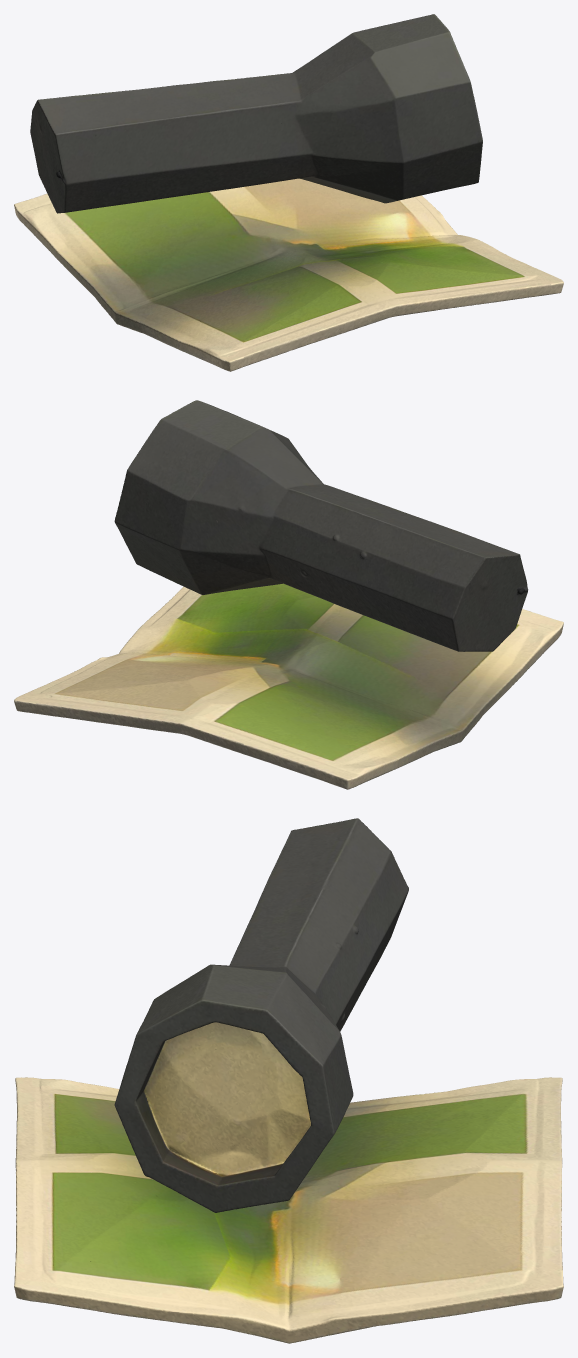
File: Latarka_MAPA.glb
3 renders of one model, top to bottom at view 1: azimuth 30°, elevation 25°; view 2: azimuth 150°, elevation 25°; view 3: azimuth 270°, elevation 25°, orthographic. The views are drawn at different scales.
Parts seen in each view (by area): view 1: tripo_node_fde78407; view 2: tripo_node_fde78407; view 3: tripo_node_fde78407.
Part boxes in pixels (bbox=[...]): tripo_node_fde78407: bbox=[14, 14, 563, 371]; tripo_node_fde78407: bbox=[14, 400, 563, 789]; tripo_node_fde78407: bbox=[14, 818, 563, 1343].
Bounding box in the file's own units: 1 × 0.5942 × 0.9316.
Materials: 1 (1 with a texture image).
